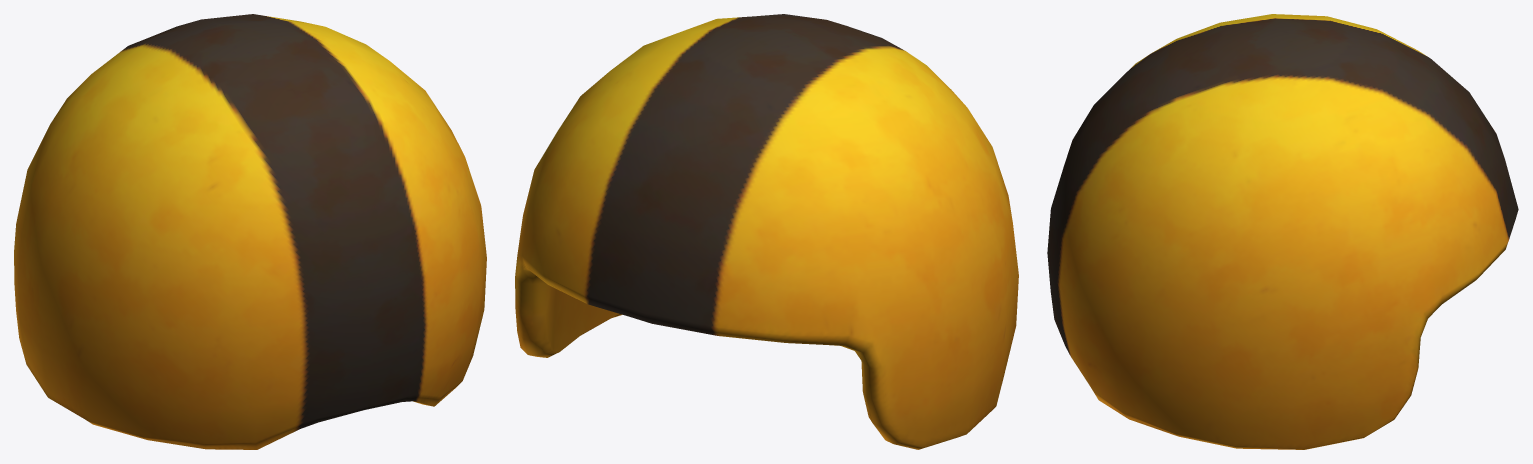
The model's file is IG_Helmat_LV1.fbx.
The picture shows the model from 3 angles, left to right: view 1: azimuth 30°, elevation 25°; view 2: azimuth 150°, elevation 25°; view 3: azimuth 270°, elevation 25°; orthographic projection. The views are drawn at different scales.
Visible parts, largest first — view 1: Hair_Hat_LV1; view 2: Hair_Hat_LV1; view 3: Hair_Hat_LV1.
Boxes of the visible parts, <box> form: Hair_Hat_LV1: <box>14,14,486,449</box>; Hair_Hat_LV1: <box>515,14,1018,449</box>; Hair_Hat_LV1: <box>1047,14,1518,449</box>.
Bounding box in the file's own units: 0.6115 × 0.4647 × 0.618.
